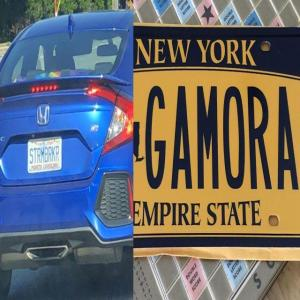Plate: (28, 138, 62, 173)
